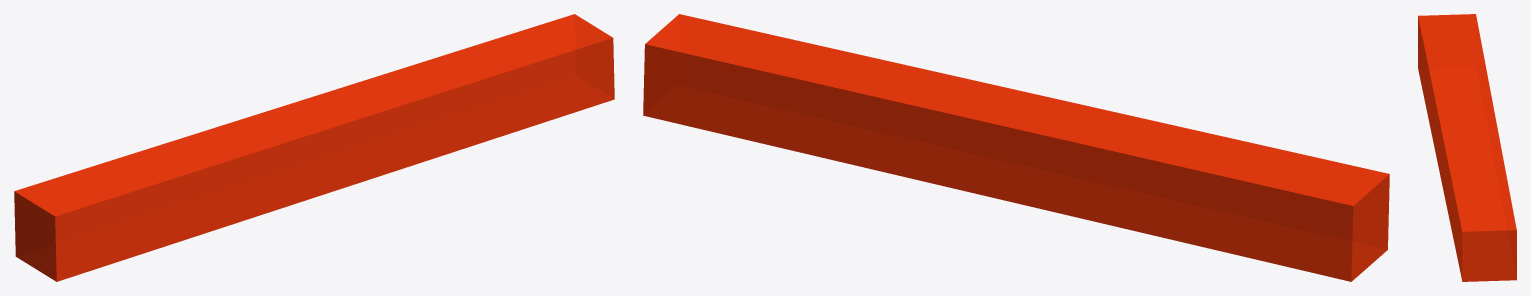
The model's file is Event_421127236_EErechit_16.fbx.
3 renders of one model, left to right at view 1: azimuth 30°, elevation 25°; view 2: azimuth 150°, elevation 25°; view 3: azimuth 270°, elevation 25°, orthographic. The views are drawn at different scales.
Parts seen in each view (by area): view 1: Model; view 2: Model; view 3: Model.
Boxes of the visible parts, box(x1,y1,x2,y2) form: Model: box(14, 14, 614, 281); Model: box(643, 14, 1389, 281); Model: box(1418, 14, 1516, 281).
Bounding box in the file's own units: 0.7249 × 0.0952 × 0.1312.
